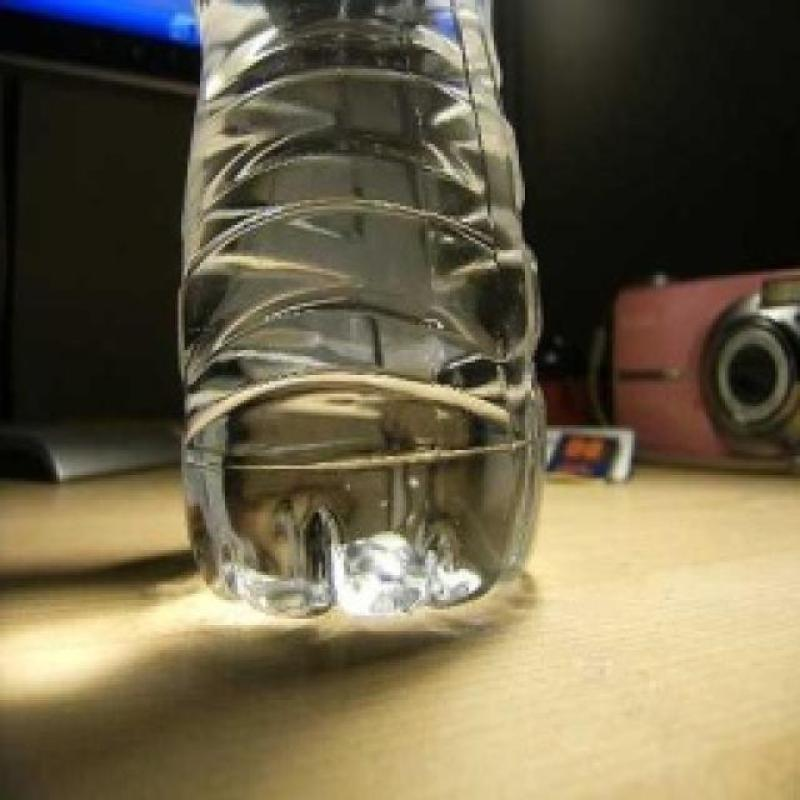botella: (179, 0, 539, 615)
